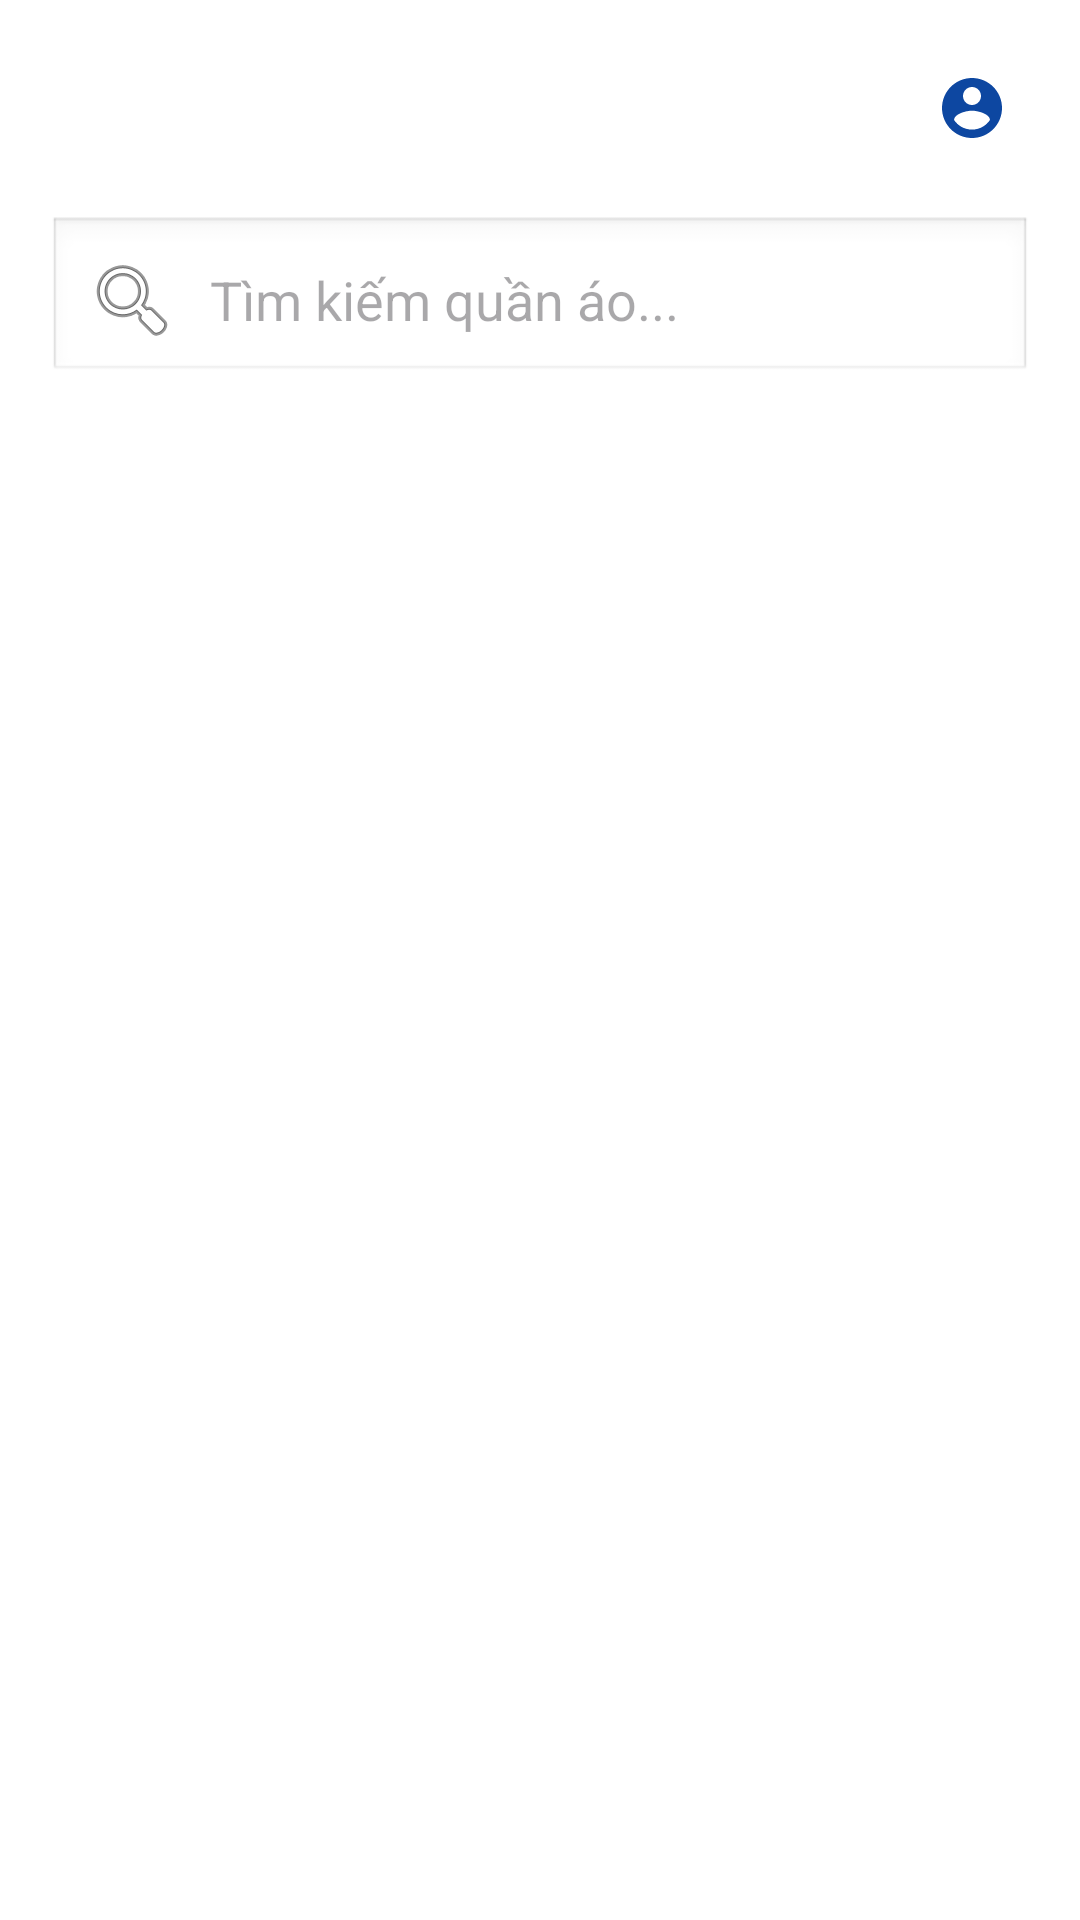

Icon bounding boxes for this 1080x1920 phone screenshot, format BBox(x1, y1, x2, y2):
user circle: BBox(942, 78, 1002, 138)
